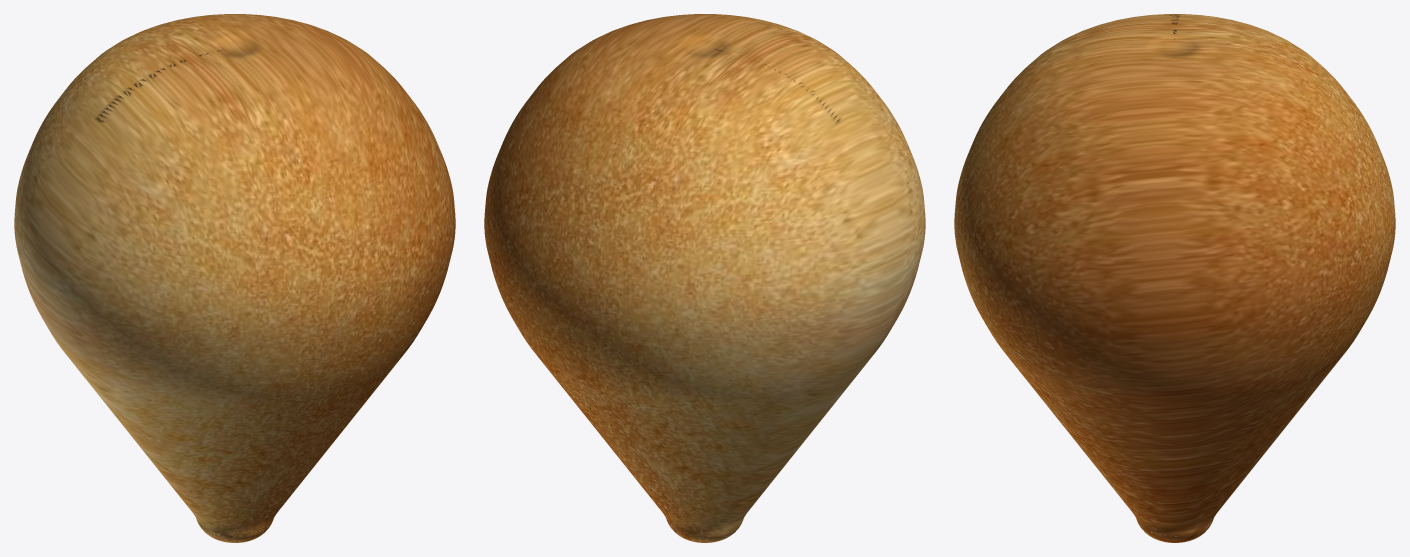
Rendered from item_coxinha.obj.
3 views of the same model, side by side, from view 1: azimuth 30°, elevation 25°; view 2: azimuth 150°, elevation 25°; view 3: azimuth 270°, elevation 25° (orthographic).
Bounding box in the file's own units: 101 × 124 × 102.
1 material, 1 textured.
